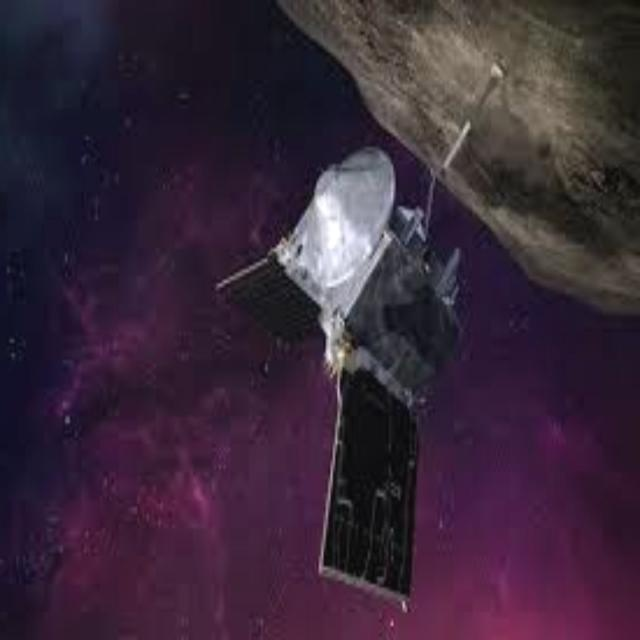medium_debris: (189, 81, 498, 615)
